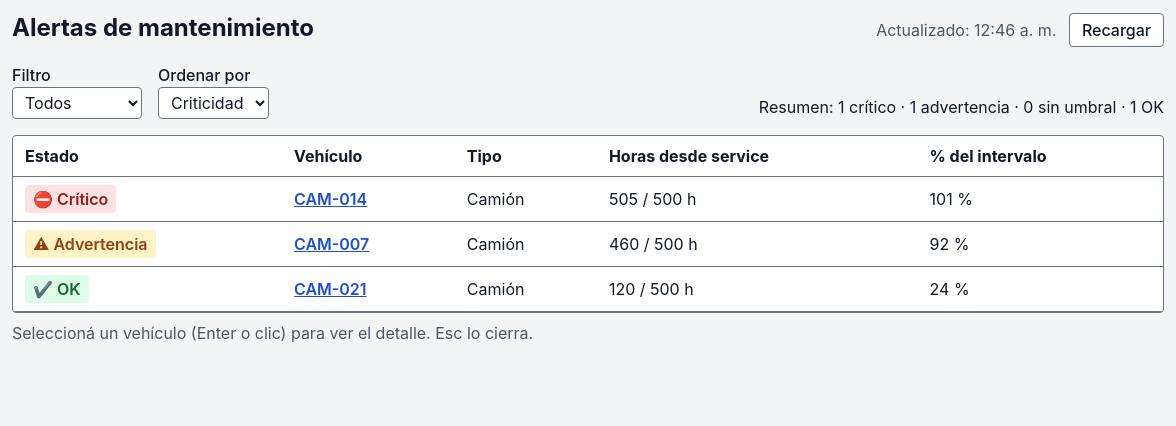
Test case: FleetAlertsPage › si falla una recarga conserva los datos anteriores y avisa
Expected: the table is shown, [13, 136, 1163, 312]
What coordinates should you click on to do the following:
click the button "Recargar"
I would click on:
 (1116, 30)
Its box is [1069, 13, 1164, 47].
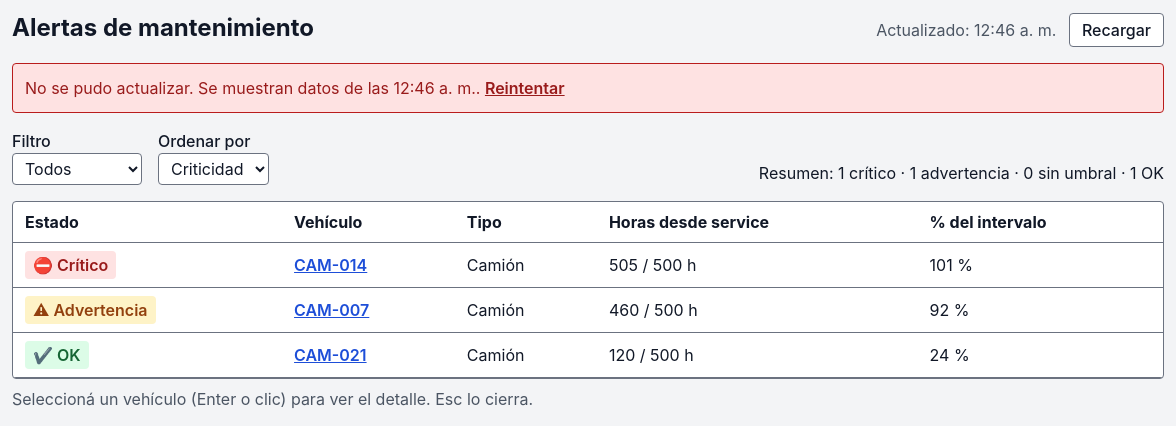
Expected: the table is shown, [13, 202, 1163, 378]
Now the message "No se pudo actualizar. Se muestran datos de las 12:46 a. m.. Reintentar" is shown, box [12, 63, 1164, 113]
